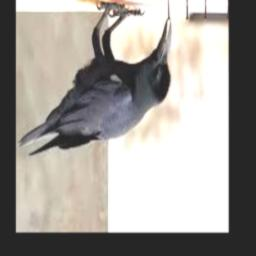Crow: (17, 1, 171, 158)
